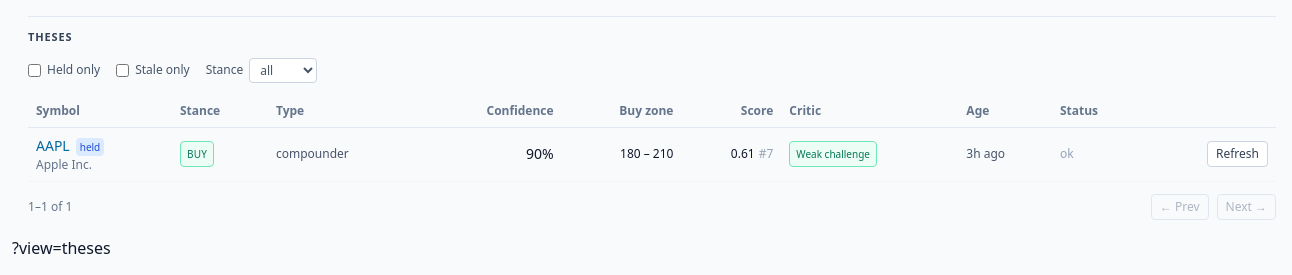
Test case: ThesesPage › preserves the Research hub's view param when a filter is toggled (#1917)
Expected: the link "AAPL" is shown, [36,136,70,154]
Click the checkbox labelled "Held only": point(34, 70) [28,64,41,76]
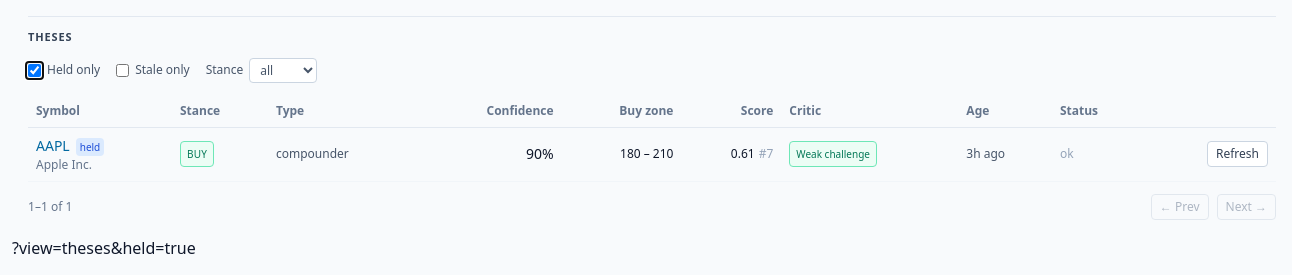
Expected: the text with test id "search" shows "view=theses", [12,236,196,258]
Now the text with test id "search" shows "held=true", box [12,236,196,258]
